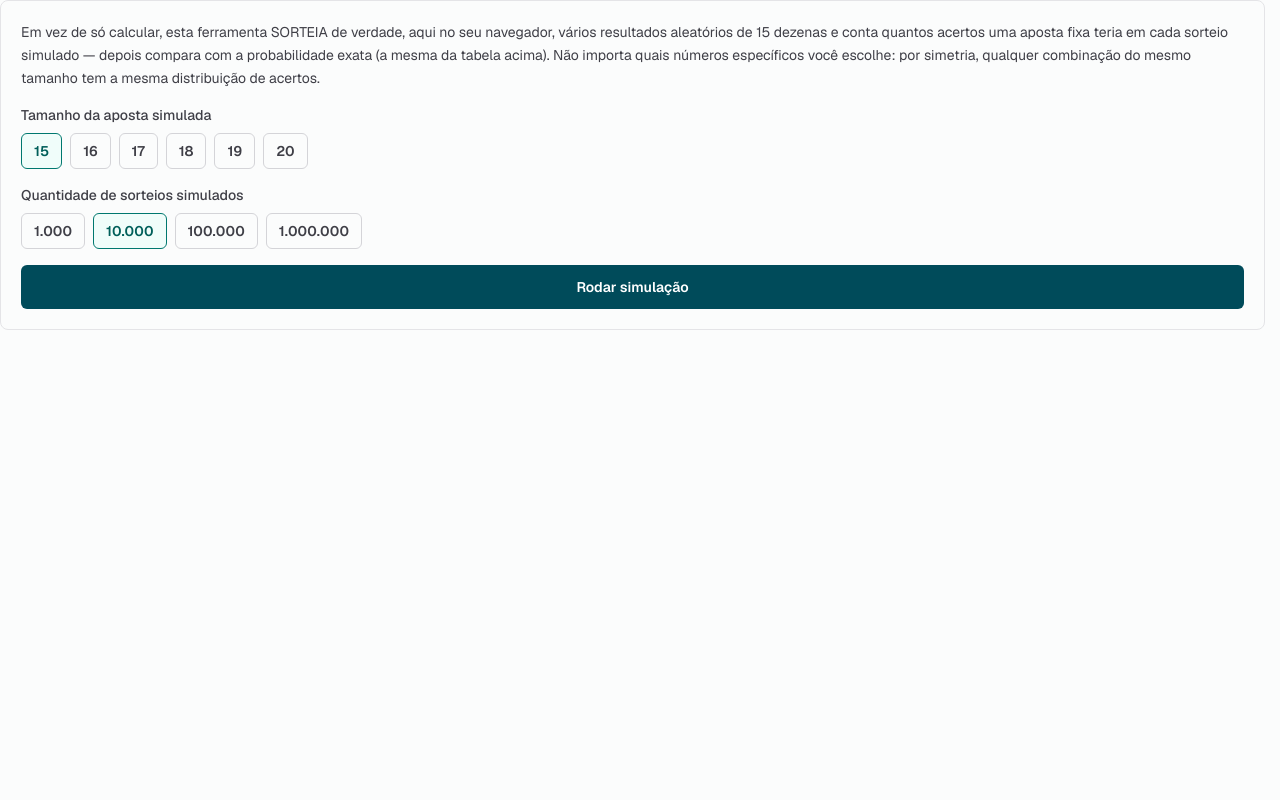
LotofacilMonteCarloSimulation › roda a simulação padrão (15 números, 10.000 sorteios) e mostra a tabela de resultado
Click the button "Rodar simulação". click: point(632, 287)
box: [21, 265, 1244, 309]
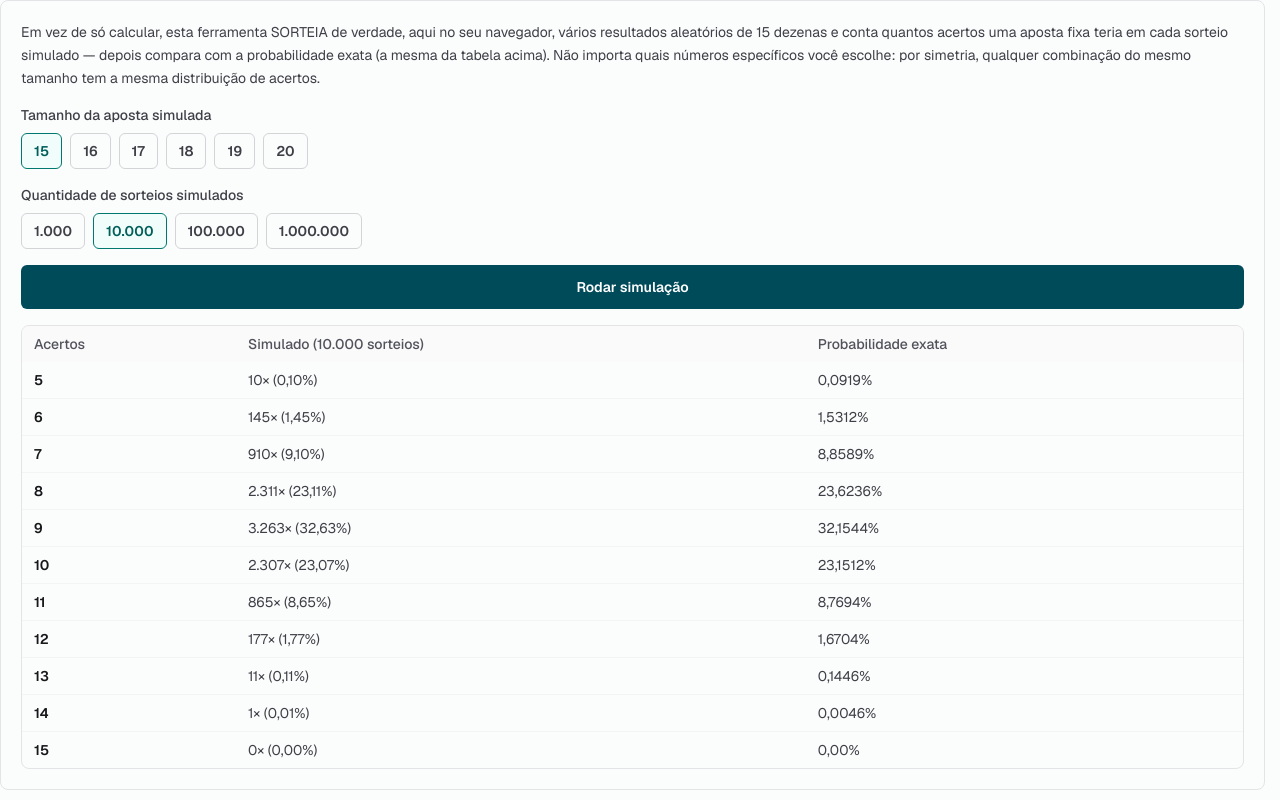
Expected: the table shows "10.000 sorteios", [22, 326, 1243, 768]
Expected: the row "5 10× (0,10%) 0,0919%" is shown, [22, 362, 1243, 399]
